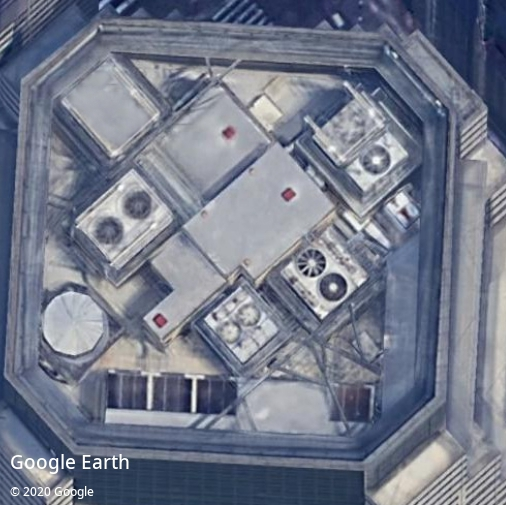Vent: (124, 191, 152, 220), (298, 250, 326, 278), (363, 146, 391, 174), (96, 217, 124, 245), (320, 273, 347, 302), (238, 304, 261, 327), (220, 321, 242, 345)
